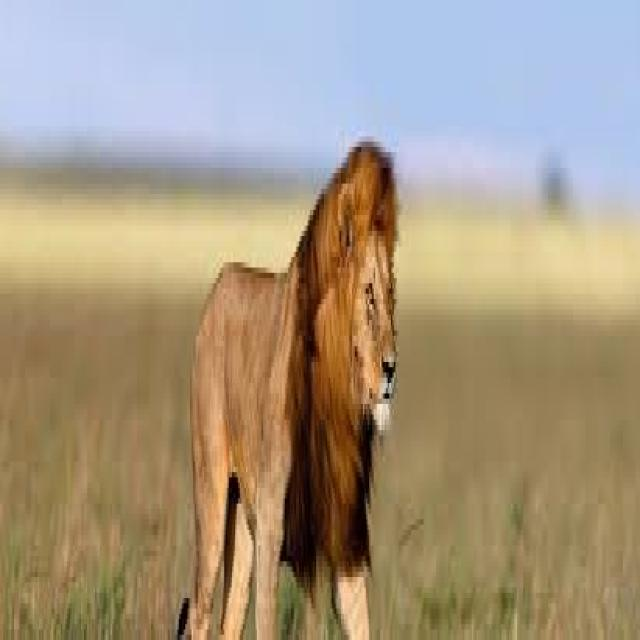Lion: (179, 142, 396, 635)
